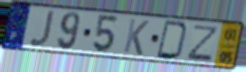5: (92, 13, 121, 55)
9: (55, 11, 84, 52)
D: (154, 19, 190, 62)
J: (28, 10, 57, 49)
K: (121, 17, 150, 57)
Z: (185, 24, 221, 63)
